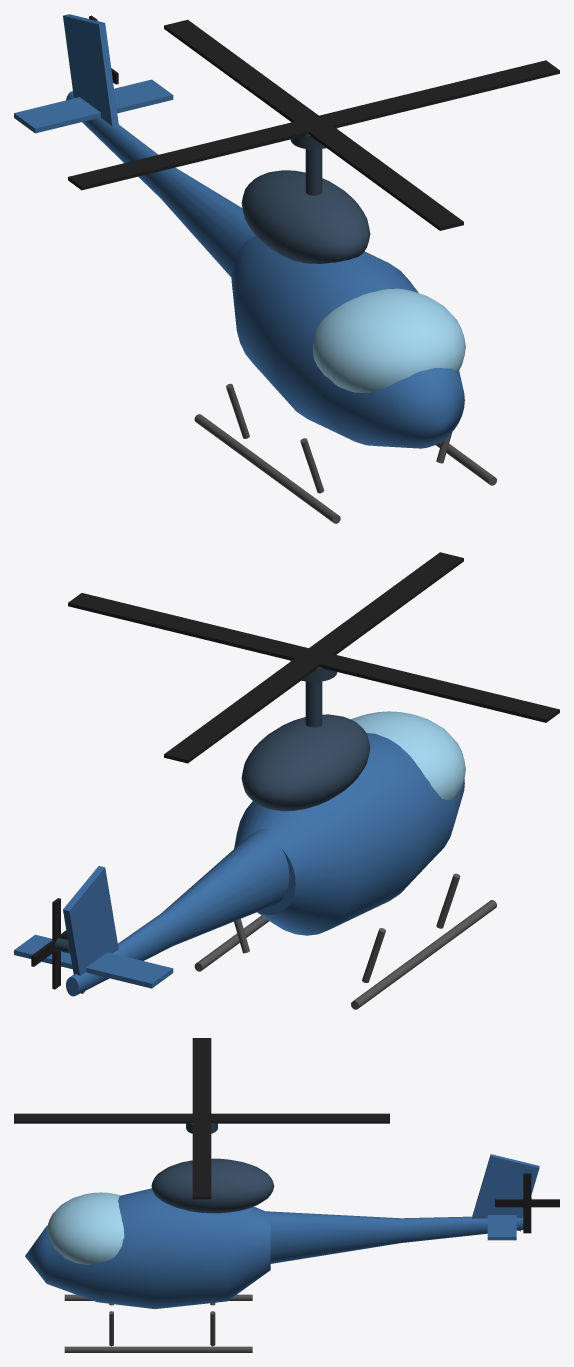
File: player_helicopter.glb
3 renders of one model, top to bottom at view 1: azimuth 30°, elevation 25°; view 2: azimuth 150°, elevation 25°; view 3: azimuth 270°, elevation 25°, orthographic. The views are drawn at different scales.
Visible parts, largest first — view 1: player_helicopter; view 2: player_helicopter; view 3: player_helicopter.
Part boxes in pixels (x1=…): player_helicopter: x1=14, y1=14, x2=559, y2=523; player_helicopter: x1=14, y1=552, x2=559, y2=1009; player_helicopter: x1=14, y1=1038, x2=559, y2=1352.
Size of the model in its own units: 5.2 by 3.19 by 7.55.
